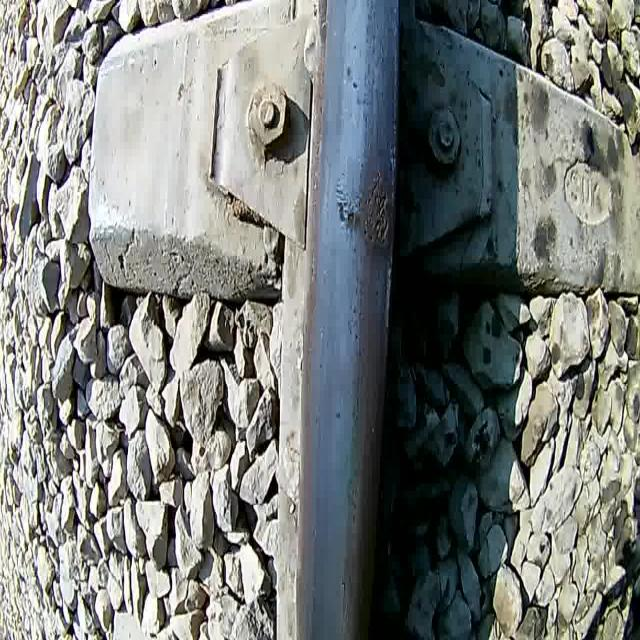Spallings: (364, 165, 392, 252)
Squats: (331, 159, 398, 265)
